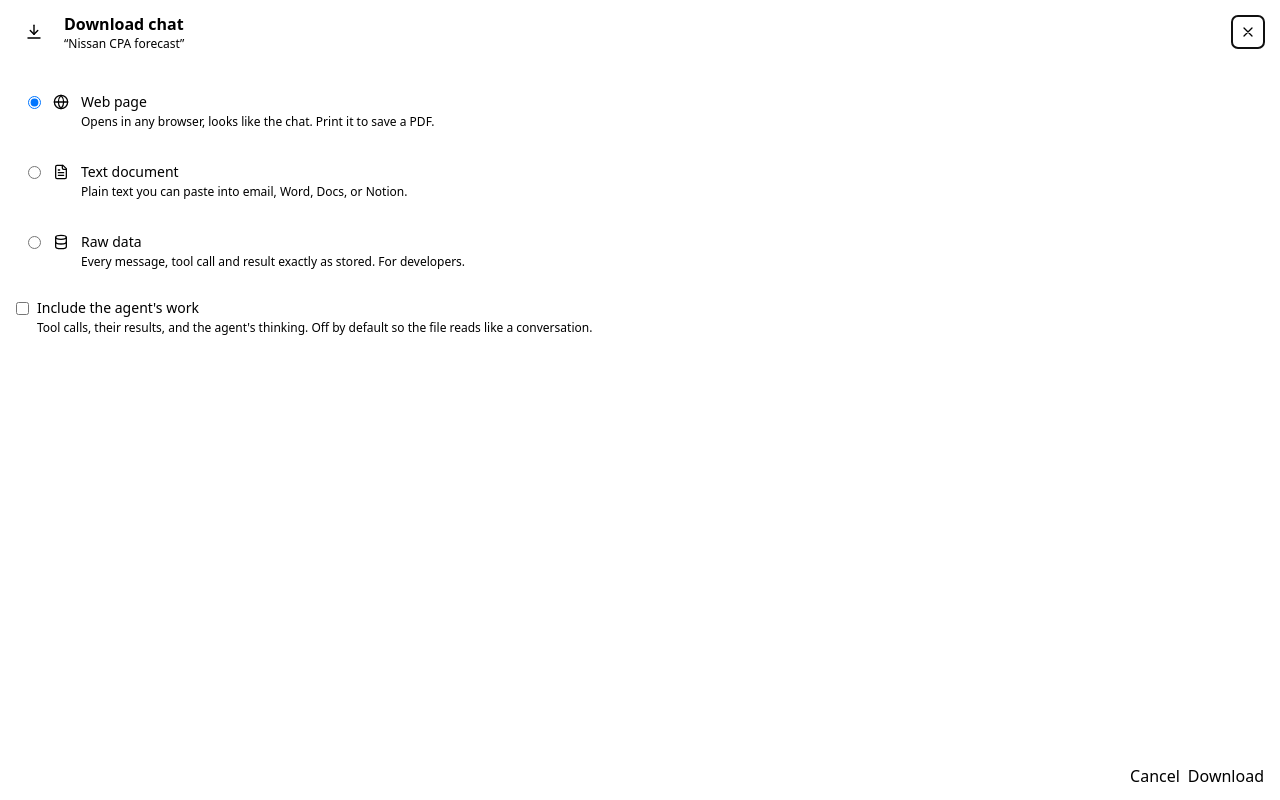
Test case: DownloadChatDialog › keeps the dialog open and explains a failed download
Click the button "Download". click: click(1226, 776)
box: [1188,764,1264,788]
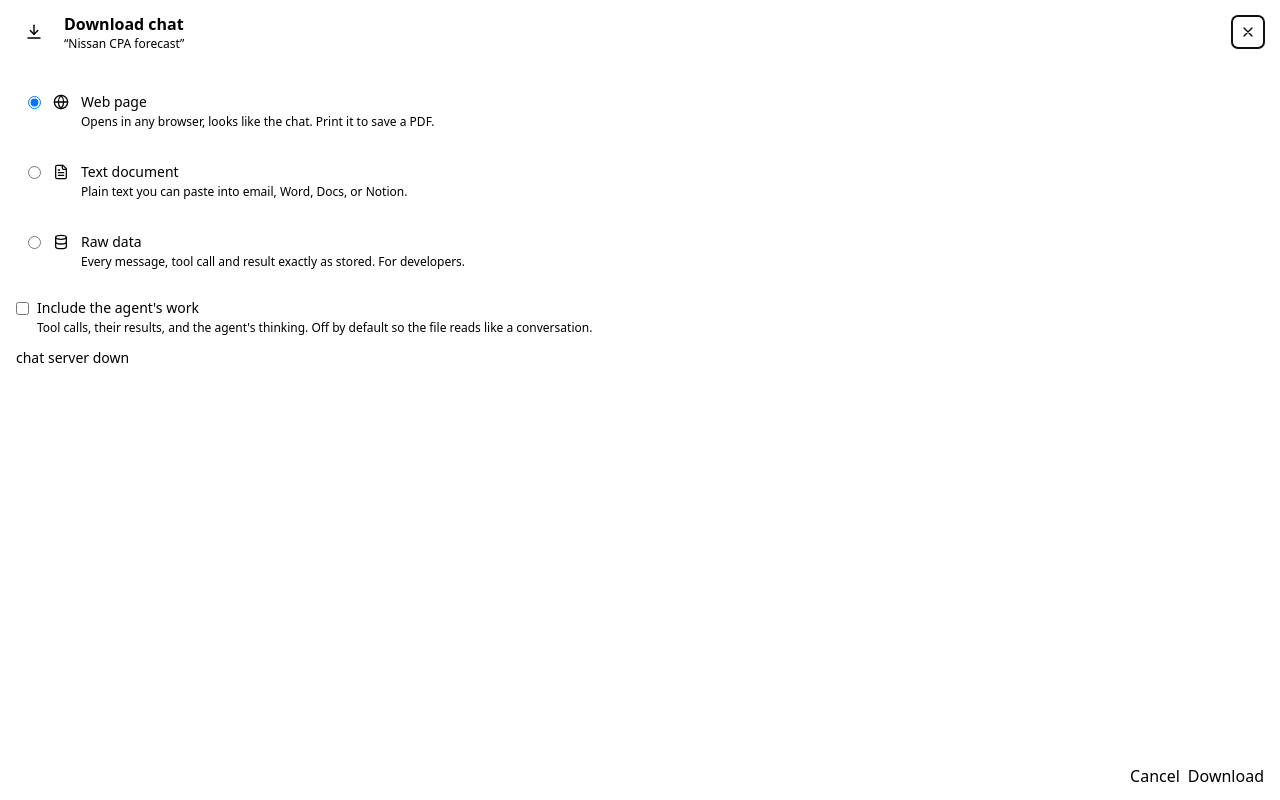
Now the text "chat server down" is shown, box [16,348,129,367]
